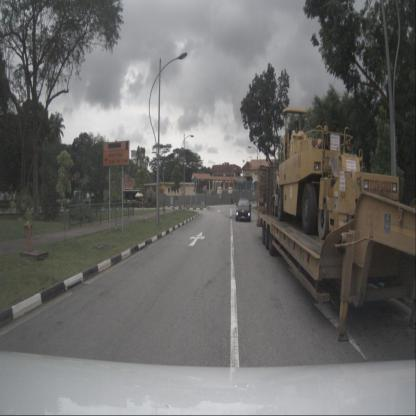human-pedestrian-adult: (230, 193, 234, 205)
vehicle-car: (235, 198, 252, 223)
